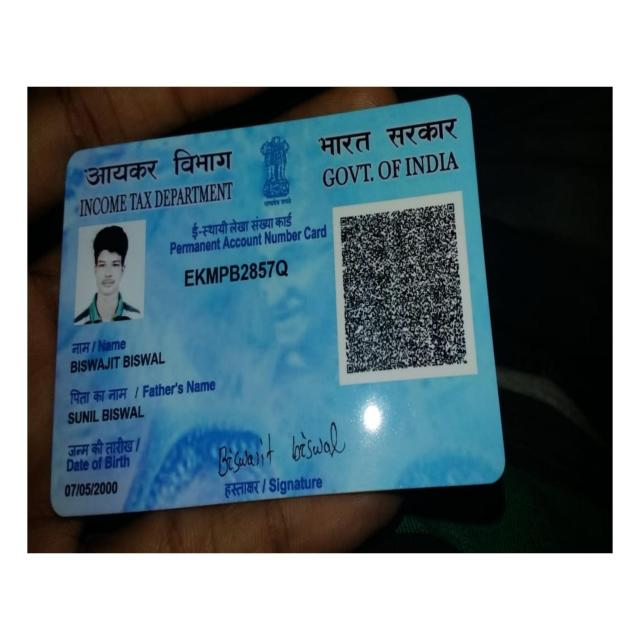pan_card: (53, 95, 497, 513)
